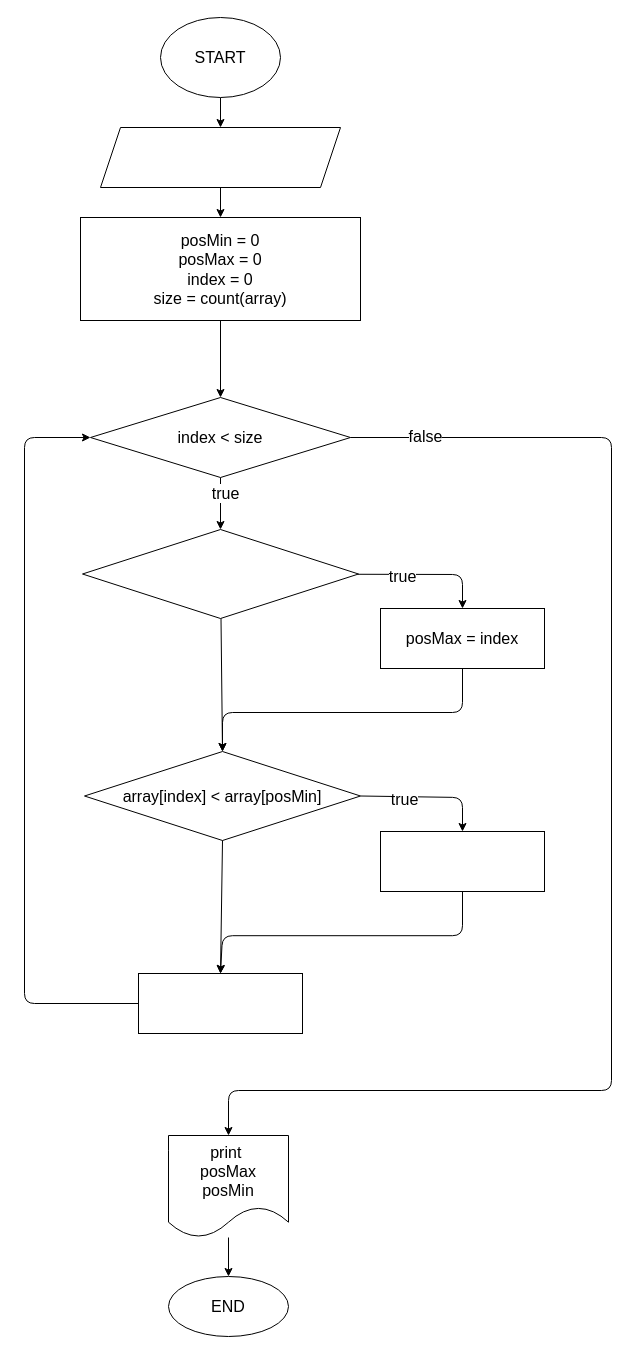
The diagram is 637 pixels wide and 1354 high, and some of its shapes have lost their labels. Here are the shapes that lost their labels. From the top down, the centre of each, then its label:
At point 220,157: "input array".
At point 220,573: "array[index] > array[posMax]".
At point 462,861: "posMin = index".
At point 220,1003: "index += 1".
